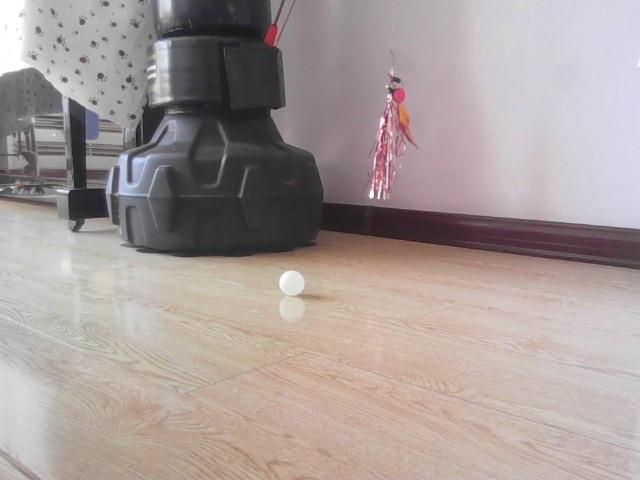ball: (279, 271, 305, 296)
